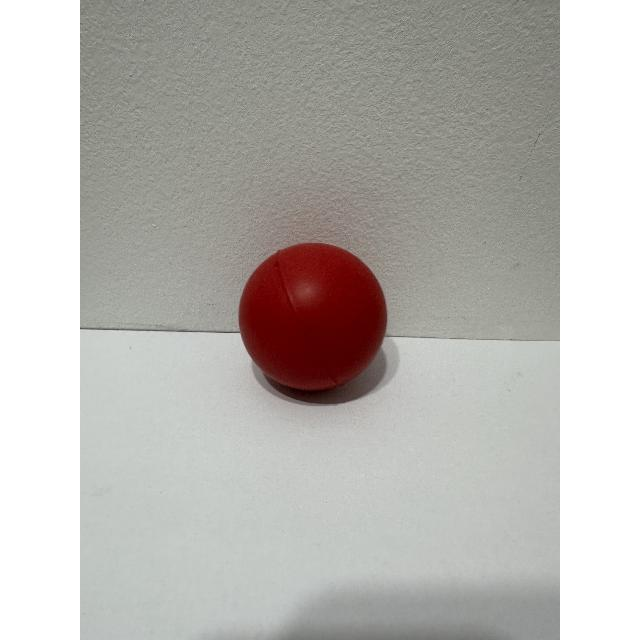red_ball: (236, 233, 404, 419)
